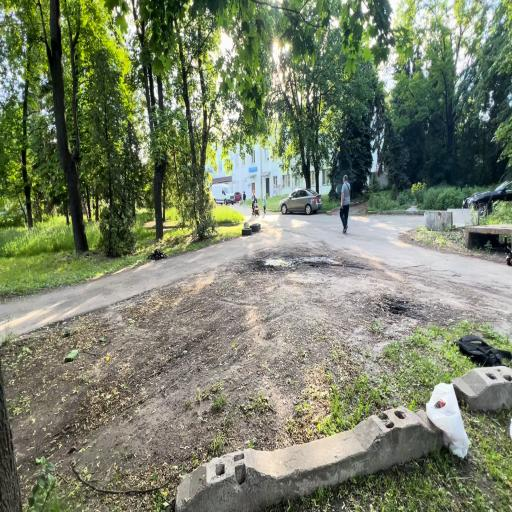drone: (147, 248, 167, 261)
